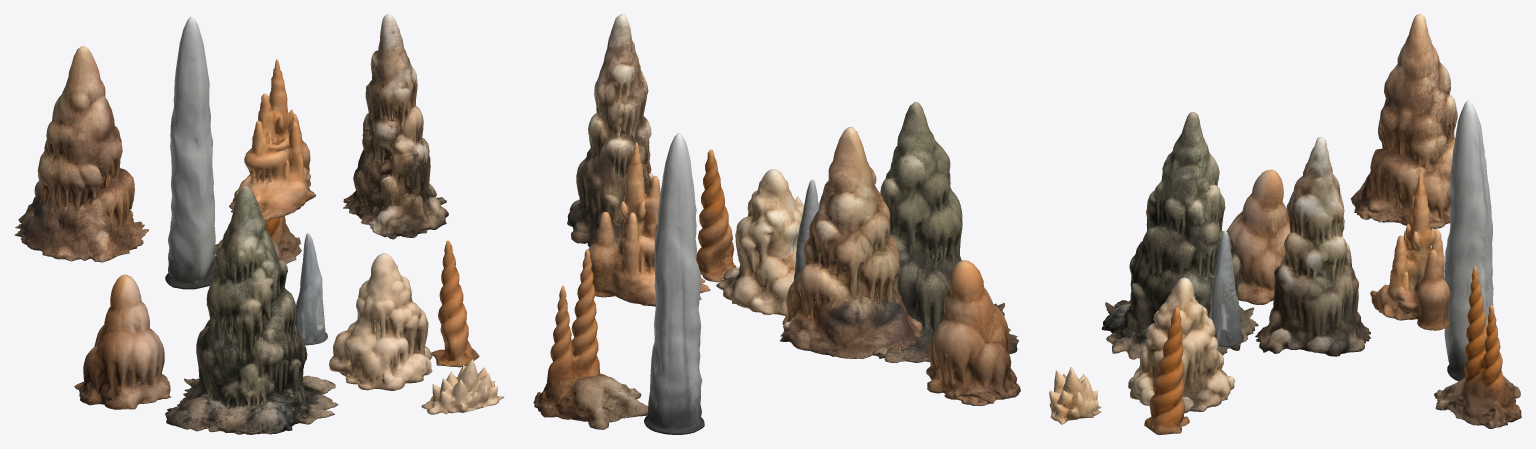
The model's file is Cave_Structures_1.glb.
3 views of the same model, side by side, from view 1: azimuth 30°, elevation 25°; view 2: azimuth 150°, elevation 25°; view 3: azimuth 270°, elevation 25° (orthographic). The views are drawn at different scales.
Visible parts, largest first — view 1: Cave_Structures_1; view 2: Cave_Structures_1; view 3: Cave_Structures_1.
Part boxes in pixels (x1,y1,x2,y2): Cave_Structures_1: (14,14,504,434); Cave_Structures_1: (533,14,1020,434); Cave_Structures_1: (1049,14,1521,434).
Bounding box in the file's own units: 1.79 × 1.3 × 1.89.
1 material, 1 textured.
